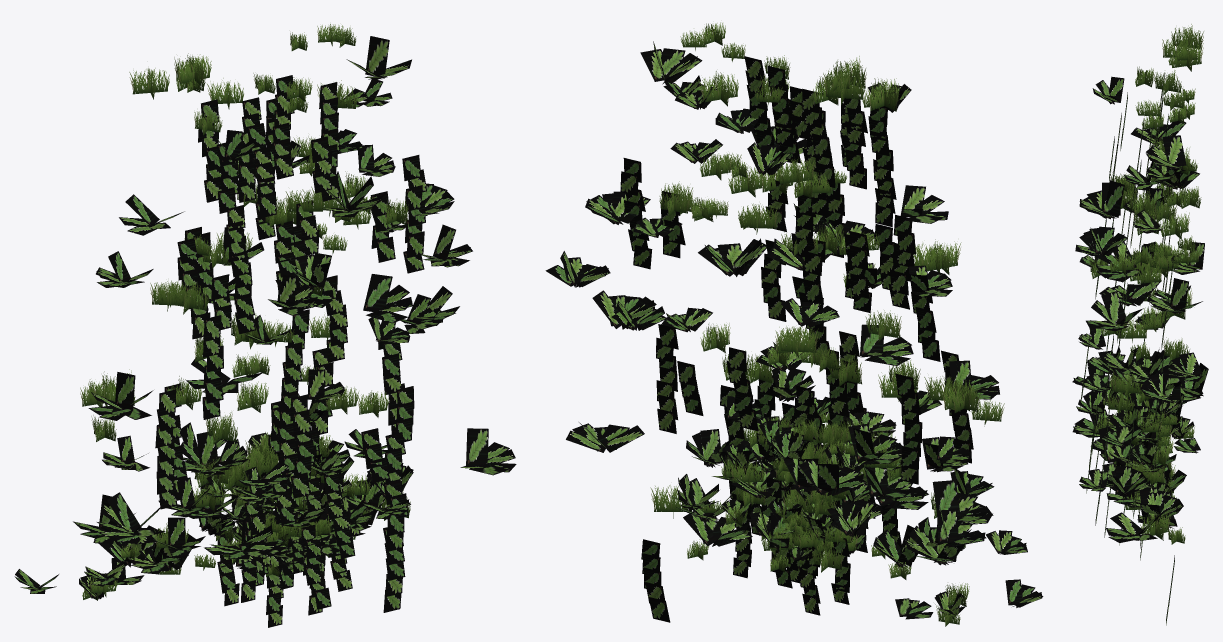
The model's file is cliffkit_set.glb.
3 renders of one model, left to right at view 1: azimuth 30°, elevation 25°; view 2: azimuth 150°, elevation 25°; view 3: azimuth 270°, elevation 25°, orthographic. The views are drawn at different scales.
Visible parts, largest first — view 1: cliff_L4_leaf, cliff_L6_leaf, cliff_L3_leaf, cliff_L7_leaf, cliff_L5_leaf, cliff_L7_grass, cliff_L4_grass, cliff_L1_leaf, cliff_L6_grass, cliff_M8_leaf, cliff_L2_leaf, cliff_M1_leaf (+11 smaller); view 2: cliff_L4_leaf, cliff_L7_leaf, cliff_L6_leaf, cliff_L5_leaf, cliff_L3_leaf, cliff_L2_leaf, cliff_L7_grass, cliff_L1_leaf, cliff_L4_grass, cliff_M3_leaf, cliff_L2_grass, cliff_L6_grass (+16 smaller); view 3: cliff_L6_leaf, cliff_L5_leaf, cliff_L4_leaf, cliff_L7_leaf, cliff_L4_grass, cliff_L2_leaf, cliff_L1_leaf, cliff_L3_leaf, cliff_L7_grass, cliff_L6_grass, cliff_L5_grass, cliff_L3_grass (+14 smaller).
Part boxes in pixels (x1,y1,x2,y2): cliff_L4_leaf: (73, 155, 454, 562); cliff_L6_leaf: (119, 36, 411, 488); cliff_L3_leaf: (181, 75, 368, 498); cliff_L7_leaf: (14, 286, 516, 593); cliff_L5_leaf: (96, 140, 412, 574); cliff_L7_grass: (80, 313, 358, 444); cliff_L4_grass: (150, 171, 408, 314); cliff_L1_leaf: (108, 252, 405, 612); cliff_L6_grass: (129, 54, 357, 227); cliff_M8_leaf: (232, 450, 355, 575); cliff_L2_leaf: (79, 224, 472, 599); cliff_M1_leaf: (222, 432, 349, 609); cliff_L4_leaf: (585, 158, 999, 547); cliff_L7_leaf: (566, 290, 1043, 607); cliff_L6_leaf: (633, 41, 948, 435); cliff_L5_leaf: (661, 142, 964, 550); cliff_L3_leaf: (675, 56, 913, 464); cliff_L2_leaf: (545, 251, 971, 619); cliff_L7_grass: (700, 323, 1004, 426); cliff_L1_leaf: (641, 203, 933, 622); cliff_L4_grass: (659, 181, 961, 274); cliff_M3_leaf: (749, 457, 875, 615); cliff_L2_grass: (650, 310, 969, 626); cliff_L6_grass: (698, 71, 899, 187); cliff_L6_leaf: (1079, 73, 1190, 453); cliff_L5_leaf: (1086, 160, 1199, 484); cliff_L4_leaf: (1072, 187, 1202, 491); cliff_L7_leaf: (1072, 303, 1180, 542); cliff_L4_grass: (1109, 171, 1201, 286); cliff_L2_leaf: (1098, 242, 1204, 523); cliff_L1_leaf: (1089, 226, 1208, 625); cliff_L3_leaf: (1075, 95, 1185, 406); cliff_L7_grass: (1101, 244, 1192, 397); cliff_L6_grass: (1117, 24, 1203, 191); cliff_L5_grass: (1088, 147, 1201, 395); cliff_L3_grass: (1135, 39, 1197, 123).
Size of the model in its own units: 14.08 by 17.06 by 4.12.
2 materials, 2 textured.
